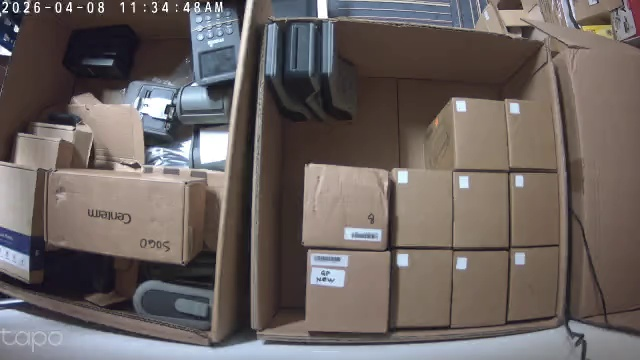box: (300, 162, 389, 250), (304, 248, 390, 330), (422, 96, 508, 170), (389, 167, 452, 248), (389, 249, 452, 329), (450, 249, 508, 328), (452, 170, 509, 249), (506, 246, 559, 323), (504, 97, 557, 171), (509, 171, 560, 247)
